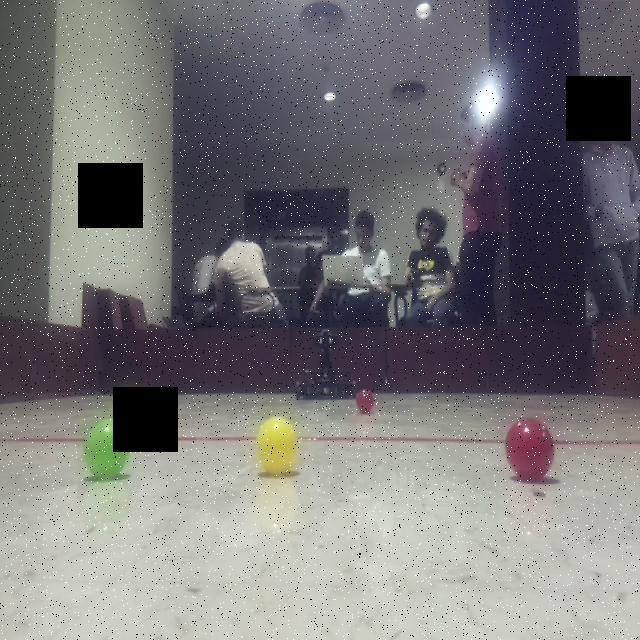ball: (501, 414, 561, 483), (82, 416, 137, 483), (254, 413, 302, 478), (352, 386, 379, 415), (114, 388, 140, 417)
